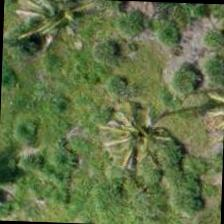Kelapa_Sawit: (88, 92, 182, 186), (5, 0, 98, 65)
